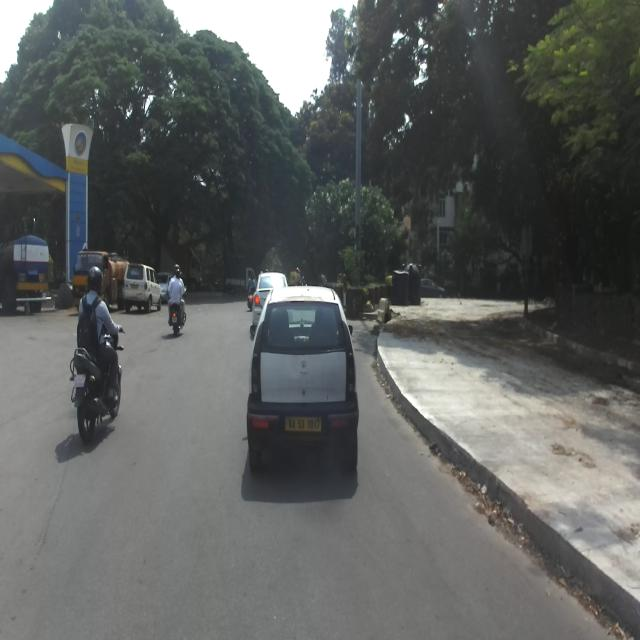car ahead at: (252, 285, 357, 474)
motorcycle ahead at: (68, 346, 127, 449)
